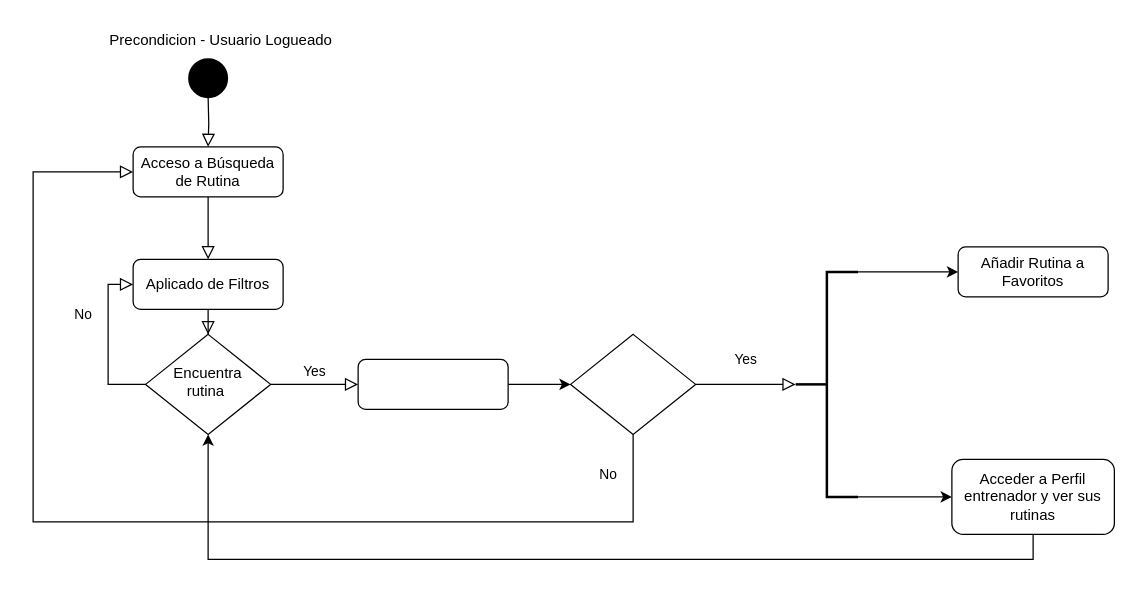
Image size: 1136x591. Some labels were removed from this diagram. The shapes that lost their labels are listed below. From the top down, each one's box as (x1, y1, x2, y2) in pixels, then its label:
(357, 358, 508, 409): Accede a detalles de rutina
(569, 333, 696, 434): Le gusta la rutina
